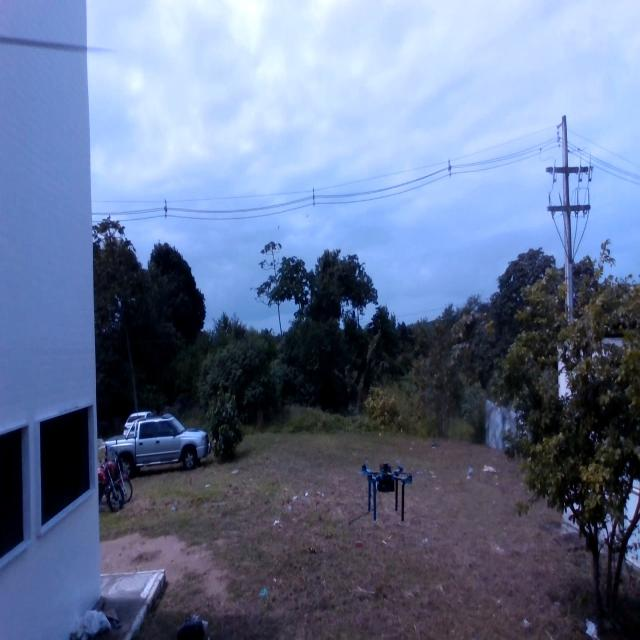-uav-: (355, 450, 417, 528)
